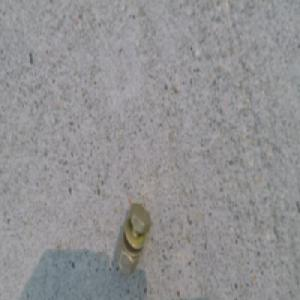BoltNutSet: (118, 199, 151, 271)
